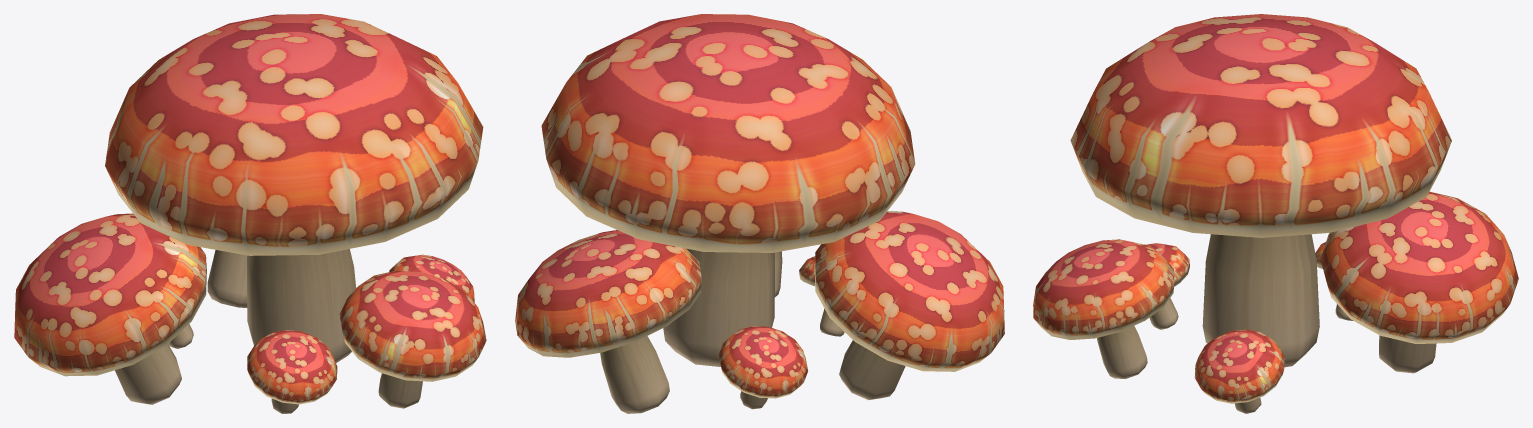
File: VEG0110002.fbx
3 renders of one model, left to right at view 1: azimuth 30°, elevation 25°; view 2: azimuth 150°, elevation 25°; view 3: azimuth 270°, elevation 25°, orthographic.
Visible parts, largest first — view 1: smVEG0110002; view 2: smVEG0110002; view 3: smVEG0110002.
Boxes of the visible parts, box(x1,y1,x2,y2) form: smVEG0110002: box(14, 14, 486, 413); smVEG0110002: box(515, 14, 1004, 413); smVEG0110002: box(1033, 14, 1518, 413).
Size of the model in its own units: 40.1 by 28.58 by 39.1.
Materials: 1 (1 with a texture image).
